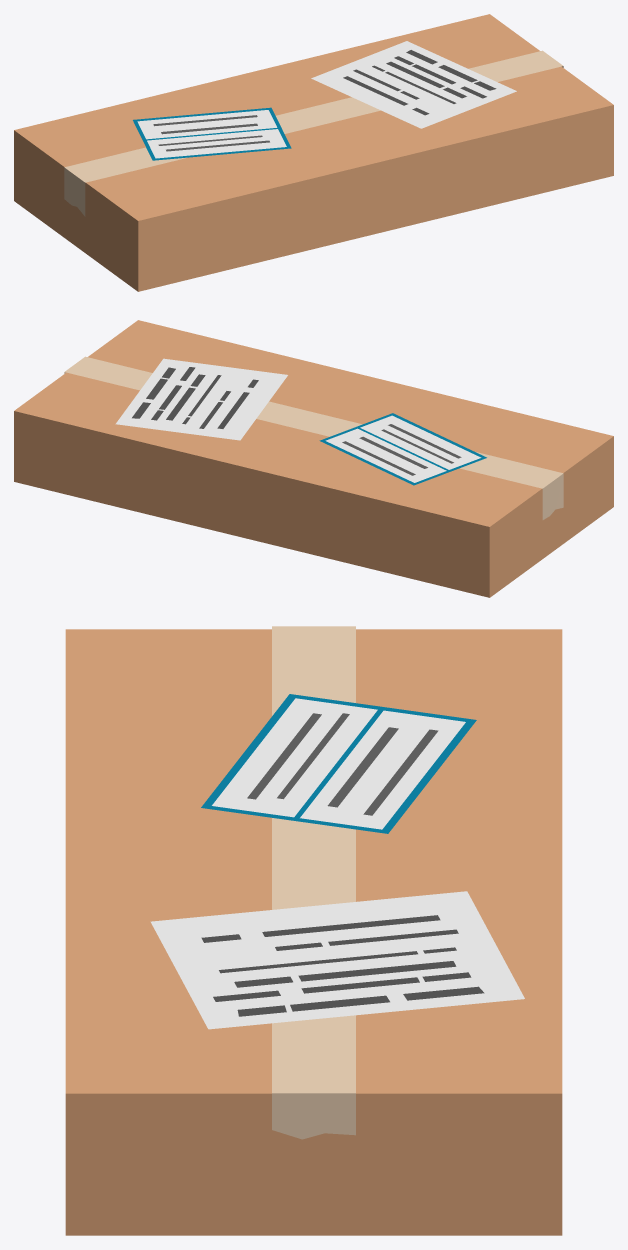
The model's file is SM_Boxes_04.fbx.
The picture shows the model from 3 angles, top to bottom: view 1: azimuth 30°, elevation 25°; view 2: azimuth 150°, elevation 25°; view 3: azimuth 270°, elevation 25°; orthographic projection. The views are drawn at different scales.
Parts seen in each view (by area): view 1: SM_Boxes_04; view 2: SM_Boxes_04; view 3: SM_Boxes_04.
Part boxes in pixels (box(x1,y1,x2,y2)): SM_Boxes_04: box(14, 14, 613, 291); SM_Boxes_04: box(14, 320, 613, 597); SM_Boxes_04: box(65, 626, 562, 1235).
Bounding box in the file's own units: 34.86 × 5.1 × 15.67.
